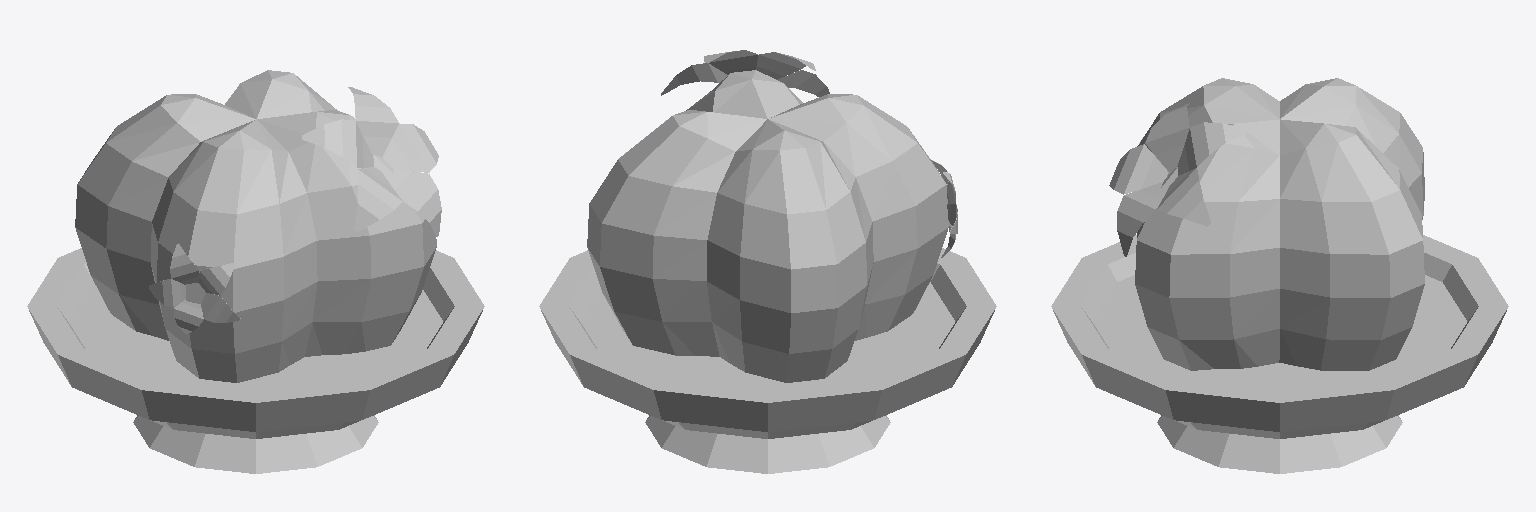
File: cactus.obj
3 renders of one model, left to right at view 1: azimuth 30°, elevation 25°; view 2: azimuth 150°, elevation 25°; view 3: azimuth 270°, elevation 25°, orthographic.
Parts seen in each view (by area): view 1: Star, Circle, Circle.001, Plane.001_Plane.005, Plane.003; view 2: Star, Circle, Circle.001, Plane.001_Plane.005, Plane.003; view 3: Star, Circle, Circle.001, Plane.001_Plane.005.
Boxes of the visible parts, x1,y1,x2,y2 form: Star: [75, 70, 436, 382]; Circle: [27, 248, 484, 473]; Circle.001: [69, 282, 442, 389]; Plane.001_Plane.005: [302, 87, 441, 236]; Plane.003: [149, 244, 240, 333]; Star: [587, 70, 948, 382]; Circle: [539, 248, 996, 473]; Circle.001: [581, 282, 954, 389]; Plane.001_Plane.005: [661, 50, 829, 96]; Plane.003: [931, 160, 957, 257]; Star: [1135, 78, 1424, 370]; Circle: [1051, 235, 1508, 473]; Circle.001: [1093, 275, 1466, 389]; Plane.001_Plane.005: [1109, 103, 1246, 256].
Bounding box in the file's own units: 14.89 × 11.94 × 14.89.